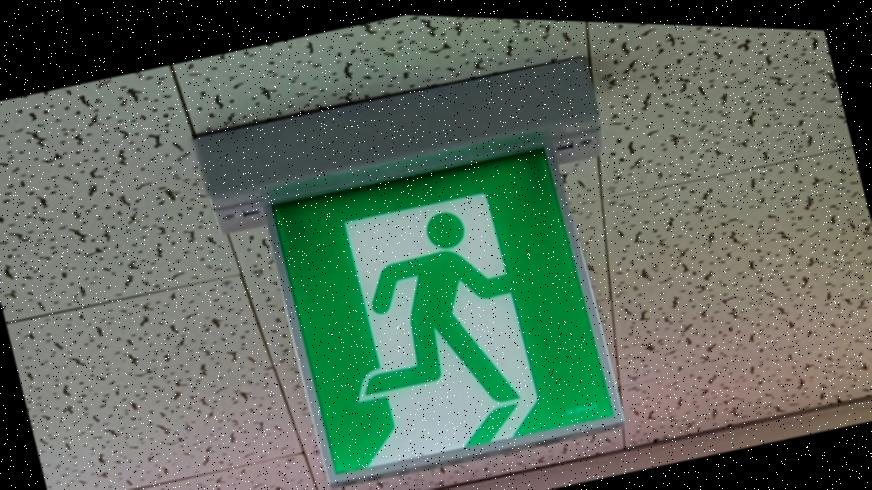emergency_exit: (266, 131, 626, 484)
